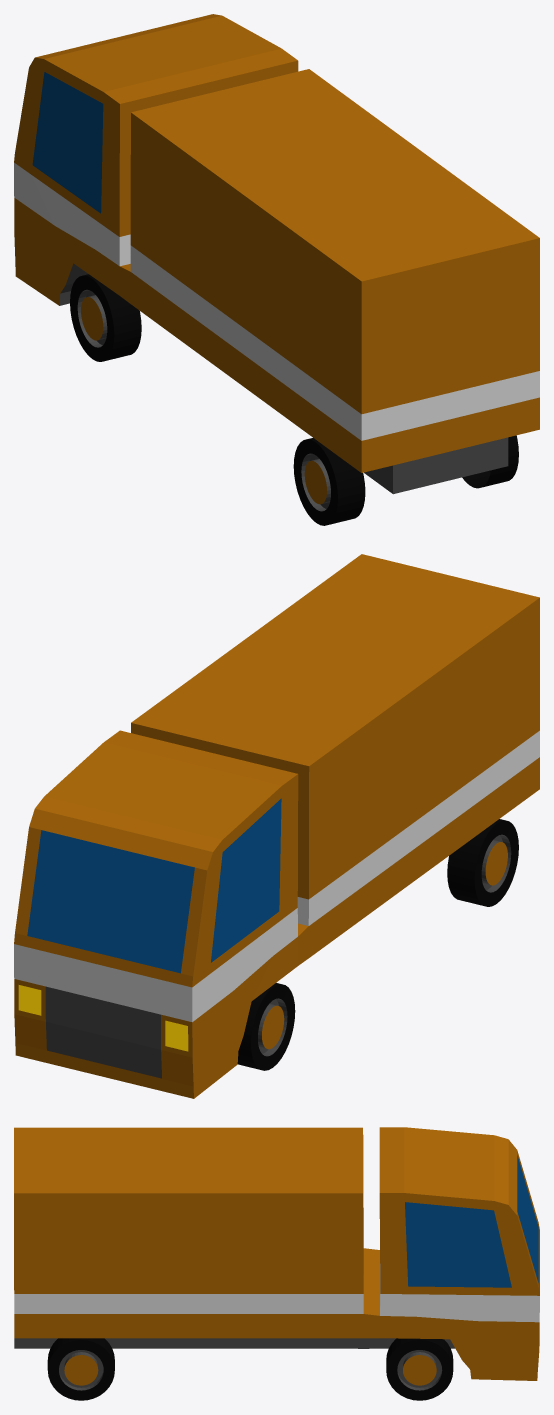
The model's file is Truck Export File.fbx.
3 views of the same model, one above another, from view 1: azimuth 30°, elevation 25°; view 2: azimuth 150°, elevation 25°; view 3: azimuth 270°, elevation 25° (orthographic). The views are drawn at different scales.
Visible parts, largest first — view 1: Body; view 2: Body; view 3: Body.
Boxes of the visible parts, box(x1,y1,x2,y2) form: Body: box(14, 14, 539, 525); Body: box(14, 554, 539, 1098); Body: box(14, 1127, 539, 1400).
Size of the model in its own units: 29.94 by 43.35 by 99.7.
